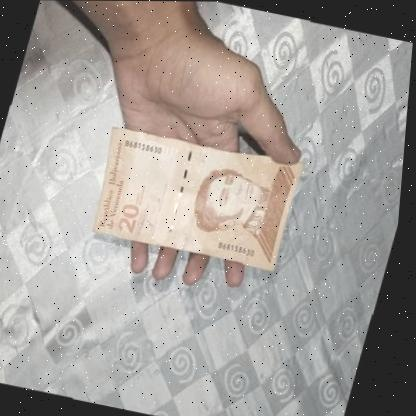twenty-front-vef: (83, 123, 309, 271)
